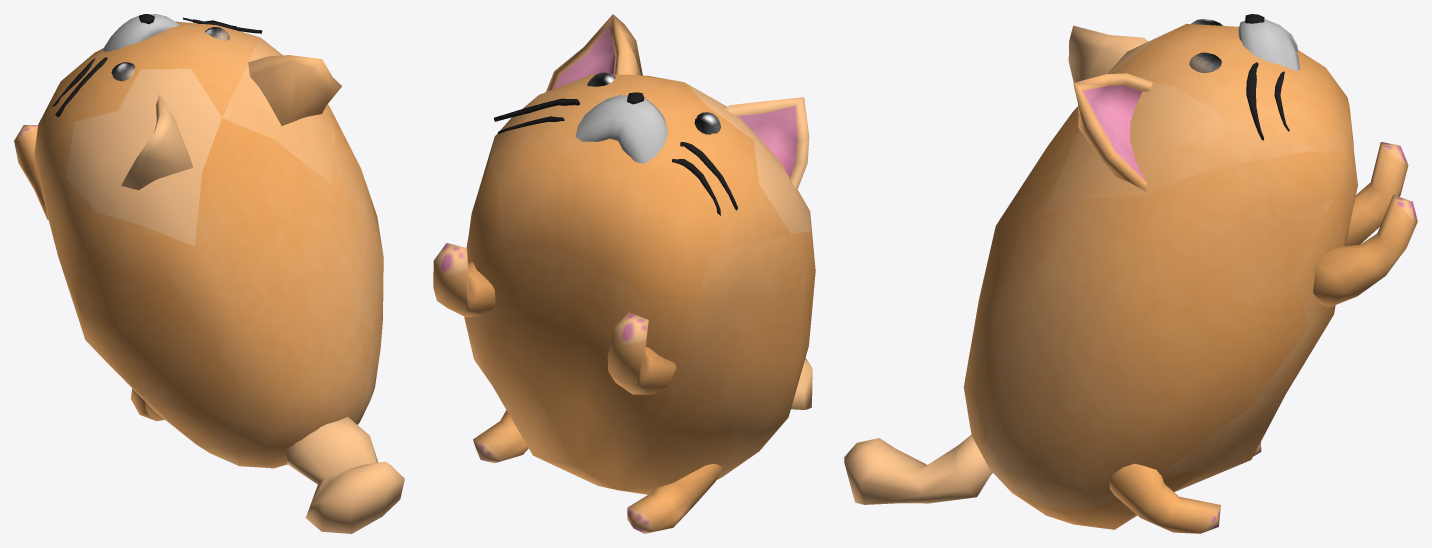
Rendered from H_CatPlushie.fbx.
3 views of the same model, side by side, from view 1: azimuth 30°, elevation 25°; view 2: azimuth 150°, elevation 25°; view 3: azimuth 270°, elevation 25° (orthographic). The views are drawn at different scales.
Visible parts, largest first — view 1: CatPlushie; view 2: CatPlushie; view 3: CatPlushie.
Part boxes in pixels (bbox=[...]): CatPlushie: bbox=[14, 14, 404, 533]; CatPlushie: bbox=[433, 14, 815, 533]; CatPlushie: bbox=[844, 14, 1417, 533].
Bounding box in the file's own units: 47.97 × 66.47 × 73.37.
